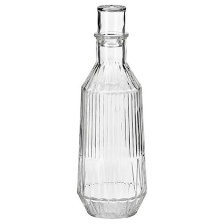bottle: (70, 1, 159, 220)
